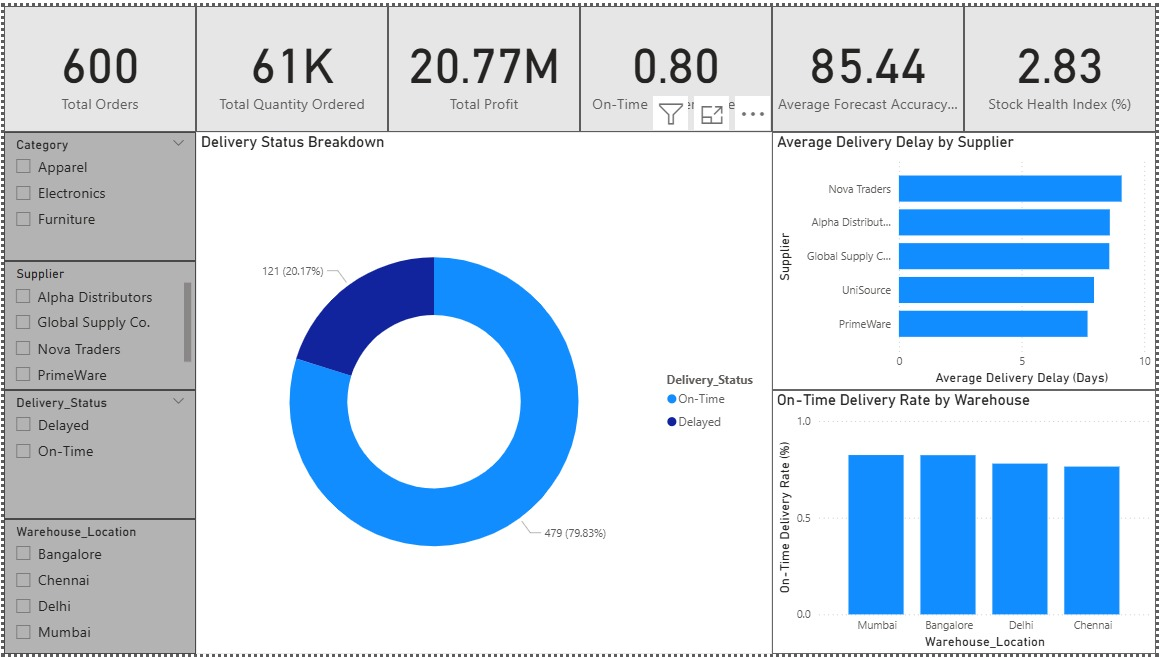

Layout of this report page (visuals, bound fields, positions):
{"tool":"powerbi","page":{"name":"Page 2","canvas":[1280,720],"ordinal":1},"visuals":[{"type":"card","fields":{"Values":["Measures (2).Total Orders"]},"box":[0,0,213.3,140],"z":0},{"type":"card","fields":{"Values":["Measures (2).Stock Health Index (%)"]},"box":[1066.7,0,213.3,140],"z":1},{"type":"card","fields":{"Values":["Measures (2).Total Quantity Ordered"]},"box":[213.3,0,213.3,140],"z":2},{"type":"card","fields":{"Values":["Measures (2).Average Forecast Accuracy (%)"]},"box":[853.3,0,213.3,140],"z":3},{"type":"card","fields":{"Values":["Measures (2).On-Time Delivery Rate (%)"]},"box":[640,0,213.3,140],"z":5},{"type":"card","fields":{"Values":["Measures (2).Total Profit"]},"box":[426.7,0,213.3,140],"z":6},{"type":"slicer","fields":{"Values":["Supply_Chain_Inventory_Optimization.Category"]},"box":[0,140,213.3,143.3],"z":7},{"type":"slicer","fields":{"Values":["Supply_Chain_Inventory_Optimization.Supplier"]},"box":[0,283.3,213.3,143.3],"z":8},{"type":"slicer","fields":{"Values":["Supply_Chain_Inventory_Optimization.Warehouse_Location"]},"box":[0,570,213.3,150],"z":9},{"type":"slicer","fields":{"Values":["Supply_Chain_Inventory_Optimization.Delivery_Status"]},"box":[0,426.7,213.3,143.3],"z":10},{"type":"clusteredColumnChart","title":"On-Time Delivery Rate by Warehouse","fields":{"Category":["Supply_Chain_Inventory_Optimization.Warehouse_Location"],"Y":["Measures (2).On-Time Delivery Rate (%)"]},"box":[853.3,426.7,426.7,293.3],"z":11},{"type":"clusteredBarChart","title":"Average Delivery Delay by Supplier","fields":{"Category":["Supply_Chain_Inventory_Optimization.Supplier"],"Y":["Measures (2).Average Delivery Delay (Days)"]},"box":[853.3,140,426.7,286.7],"z":12},{"type":"donutChart","title":"Delivery Status Breakdown","fields":{"Y":["CountNonNull(Supply_Chain_Inventory_Optimization.Order_ID)"],"Category":["Supply_Chain_Inventory_Optimization.Delivery_Status"]},"box":[213.3,140,640,580],"z":13}]}

Visuals, with their boxes in screenshot pixels (x1, y1, x2, y2), scaled from the page's 1280x720 canvas onto the 1163x657 screenshot:
card - Measures (2).Total Orders: select_region(0, 0, 194, 128)
card - Measures (2).Stock Health Index (%): select_region(969, 0, 1162, 128)
card - Measures (2).Total Quantity Ordered: select_region(194, 0, 388, 128)
card - Measures (2).Average Forecast Accuracy (%): select_region(775, 0, 969, 128)
card - Measures (2).On-Time Delivery Rate (%): select_region(582, 0, 775, 128)
card - Measures (2).Total Profit: select_region(388, 0, 582, 128)
slicer - Supply_Chain_Inventory_Optimization.Category: select_region(0, 128, 194, 259)
slicer - Supply_Chain_Inventory_Optimization.Supplier: select_region(0, 259, 194, 389)
slicer - Supply_Chain_Inventory_Optimization.Warehouse_Location: select_region(0, 520, 194, 656)
slicer - Supply_Chain_Inventory_Optimization.Delivery_Status: select_region(0, 389, 194, 520)
"On-Time Delivery Rate by Warehouse" clusteredColumnChart: select_region(775, 389, 1162, 656)
"Average Delivery Delay by Supplier" clusteredBarChart: select_region(775, 128, 1162, 389)
"Delivery Status Breakdown" donutChart: select_region(194, 128, 775, 656)
